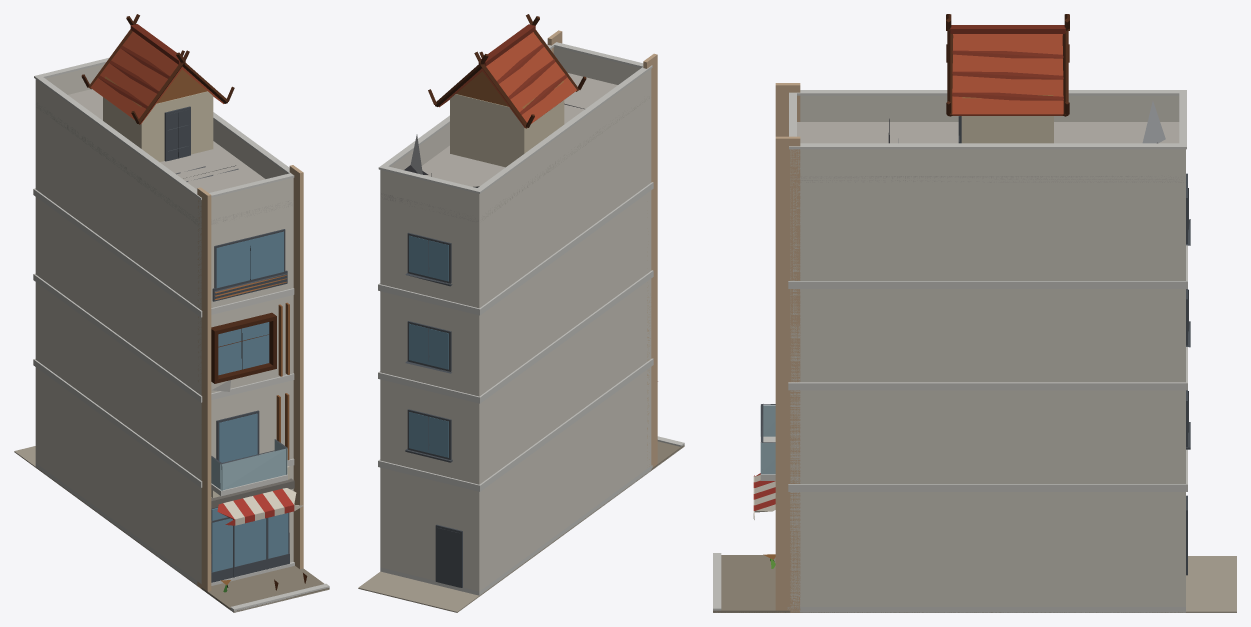
Rendered from bay2_mid2.glb.
The picture shows the model from 3 angles, left to right: view 1: azimuth 30°, elevation 25°; view 2: azimuth 150°, elevation 25°; view 3: azimuth 270°, elevation 25°; orthographic projection. The views are drawn at different scales.
Visible parts, largest first — view 1: body; view 2: body; view 3: body.
Boxes of the visible parts, x1,y1,x2,y2 form: body: (14,14,329,612); body: (358,14,684,612); body: (713,14,1236,612).
Size of the model in its own units: 4.32 by 19.43 by 15.9.
